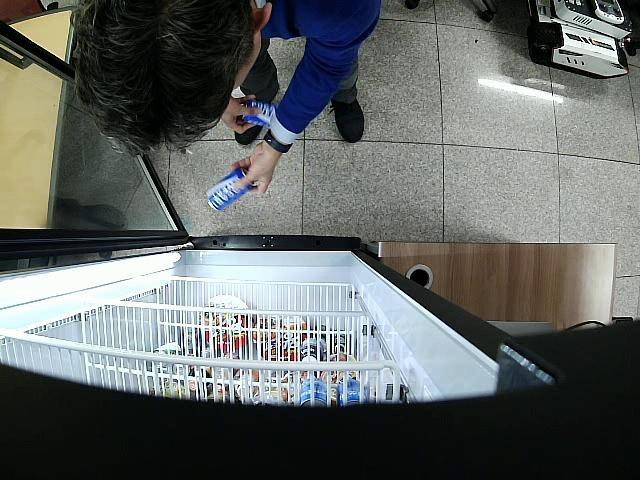13_pocariSweat: (208, 168, 256, 210), (240, 98, 278, 127)
